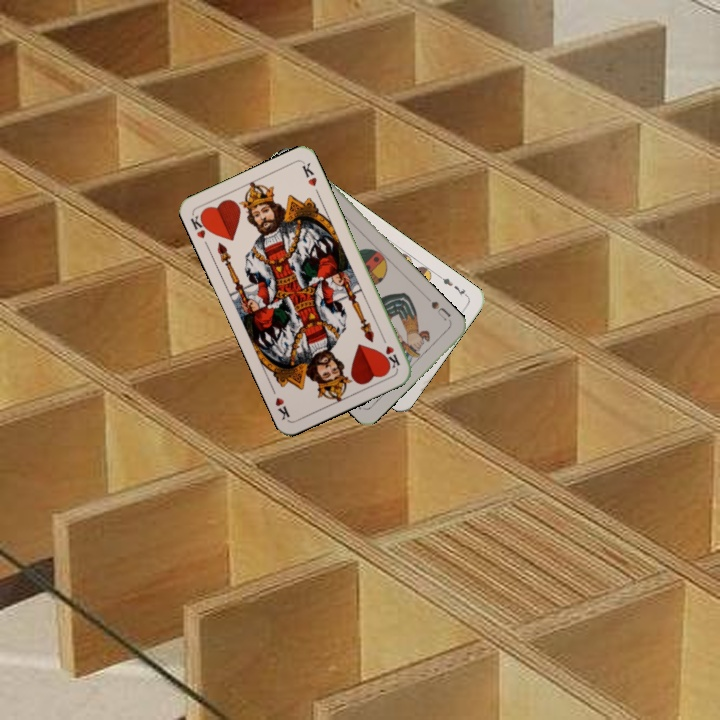E7: (435, 271, 471, 300)
HK: (377, 332, 402, 372), (186, 209, 213, 241)
SU: (427, 297, 454, 326)
